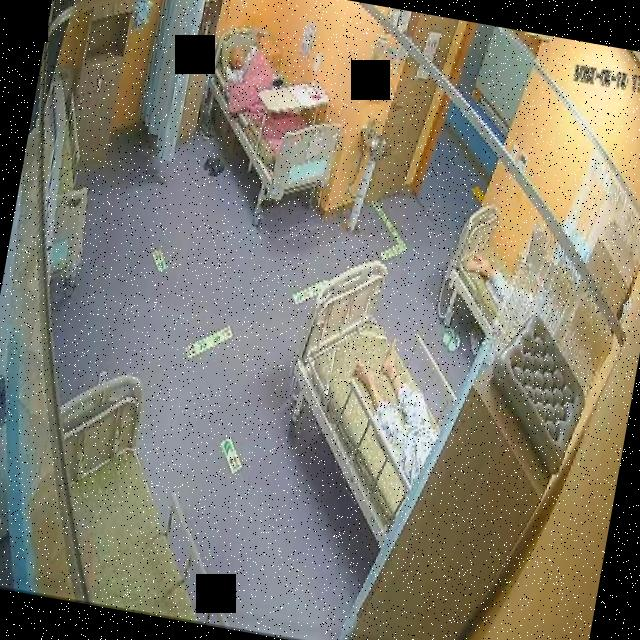bed: (27, 360, 269, 629), (268, 251, 468, 547), (192, 24, 354, 208), (438, 200, 524, 337)
lie: (338, 330, 456, 487), (213, 33, 310, 131)
patient: (338, 330, 454, 488), (220, 35, 264, 91)
